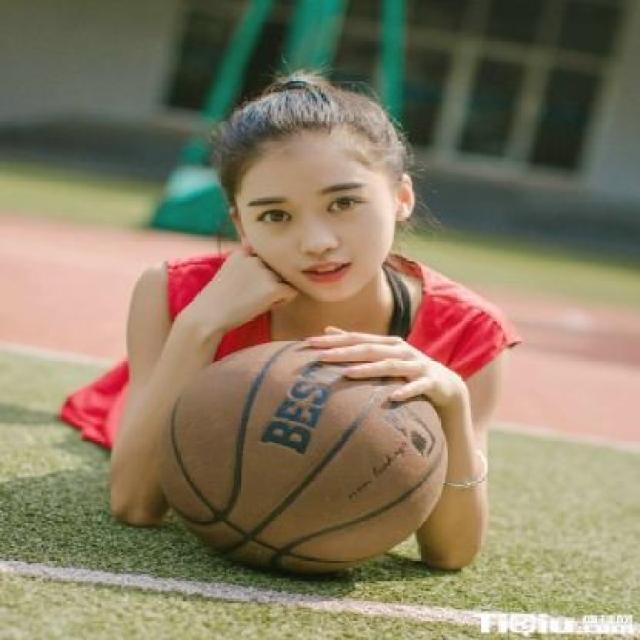basketball: (156, 340, 452, 574)
